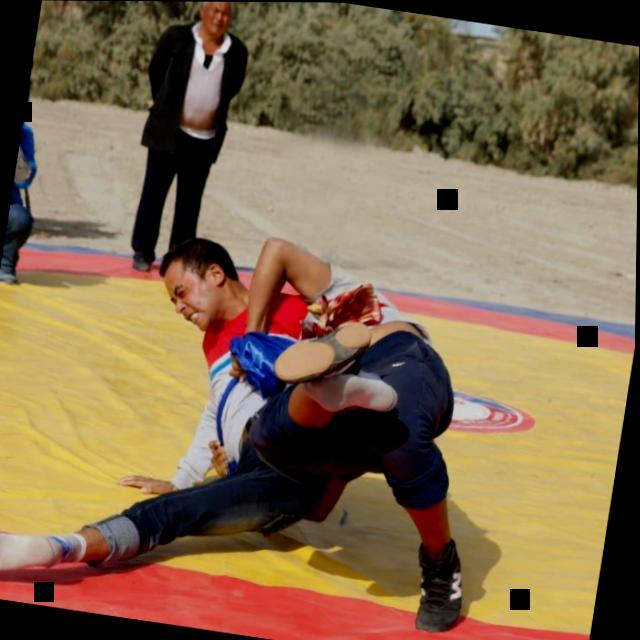Fall-Detected: (112, 234, 361, 520)
